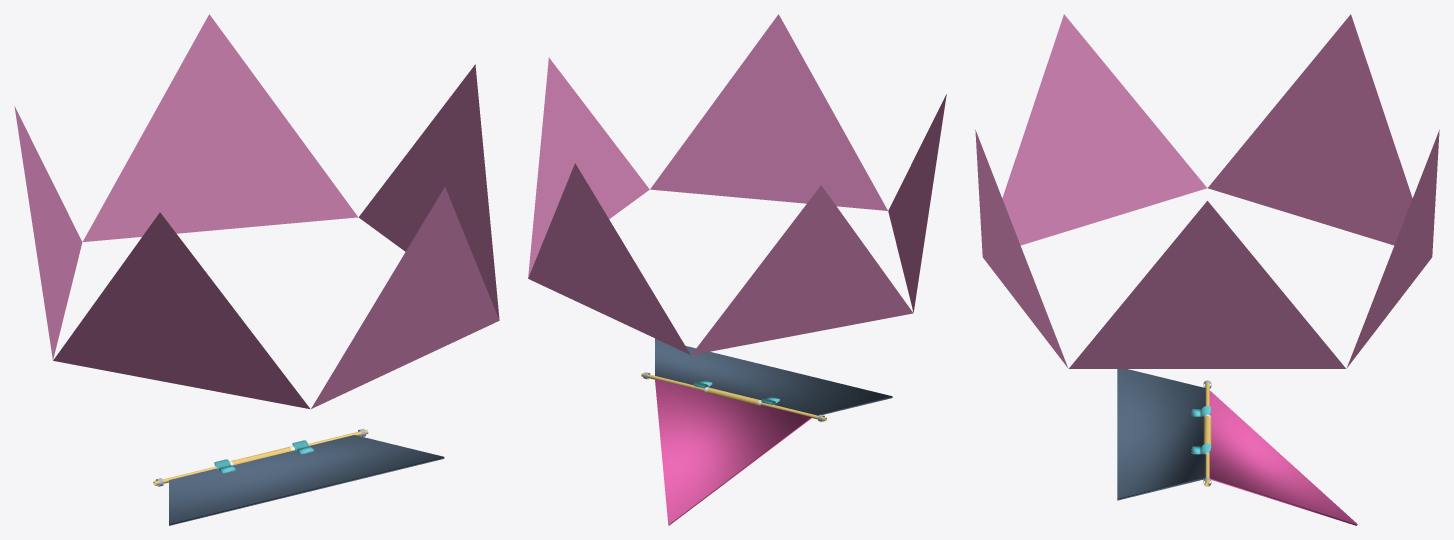
The model's file is NEXAH_D1_D2_CLAMP_CANDIDATE_2026-10-25.glb.
3 views of the same model, side by side, from view 1: azimuth 30°, elevation 25°; view 2: azimuth 150°, elevation 25°; view 3: azimuth 270°, elevation 25° (orthographic). The views are drawn at different scales.
Visible parts, largest first — view 1: fixed crown face 5, fixed crown face 2, fixed crown face 3, fixed crown face 4, fixed lower trapezoid, fixed crown face 1; view 2: fixed crown face 3, fixed crown face 1, D1-D2 moving finite panel, fixed crown face 5, fixed crown face 4, fixed lower trapezoid, fixed crown face 2; view 3: fixed crown face 1, fixed crown face 2, fixed crown face 4, fixed lower trapezoid, D1-D2 moving finite panel, fixed crown face 3, fixed crown face 5.
Boxes of the visible parts, x1,y1,x2,y2 form: fixed crown face 5: (82,14,357,242); fixed crown face 2: (53,212,310,409); fixed crown face 3: (311,187,499,408); fixed crown face 4: (358,64,499,319); fixed lower trapezoid: (169,435,444,525); fixed crown face 1: (14,106,82,359); fixed crown face 3: (650,14,887,210); fixed crown face 1: (691,185,913,354); D1-D2 moving finite panel: (655,379,811,525); fixed crown face 5: (528,163,690,354); fixed crown face 4: (528,58,649,278); fixed lower trapezoid: (655,338,892,415); fixed crown face 2: (888,94,946,312); fixed crown face 1: (1208,14,1412,245); fixed crown face 2: (1002,14,1206,245); fixed crown face 4: (1069,201,1345,368); fixed lower trapezoid: (1117,369,1205,500); D1-D2 moving finite panel: (1209,390,1357,525); fixed crown face 3: (975,130,1068,368); fixed crown face 5: (1346,130,1439,368).
Bounding box in the file's own units: 0.1729 × 0.1702 × 0.167.
